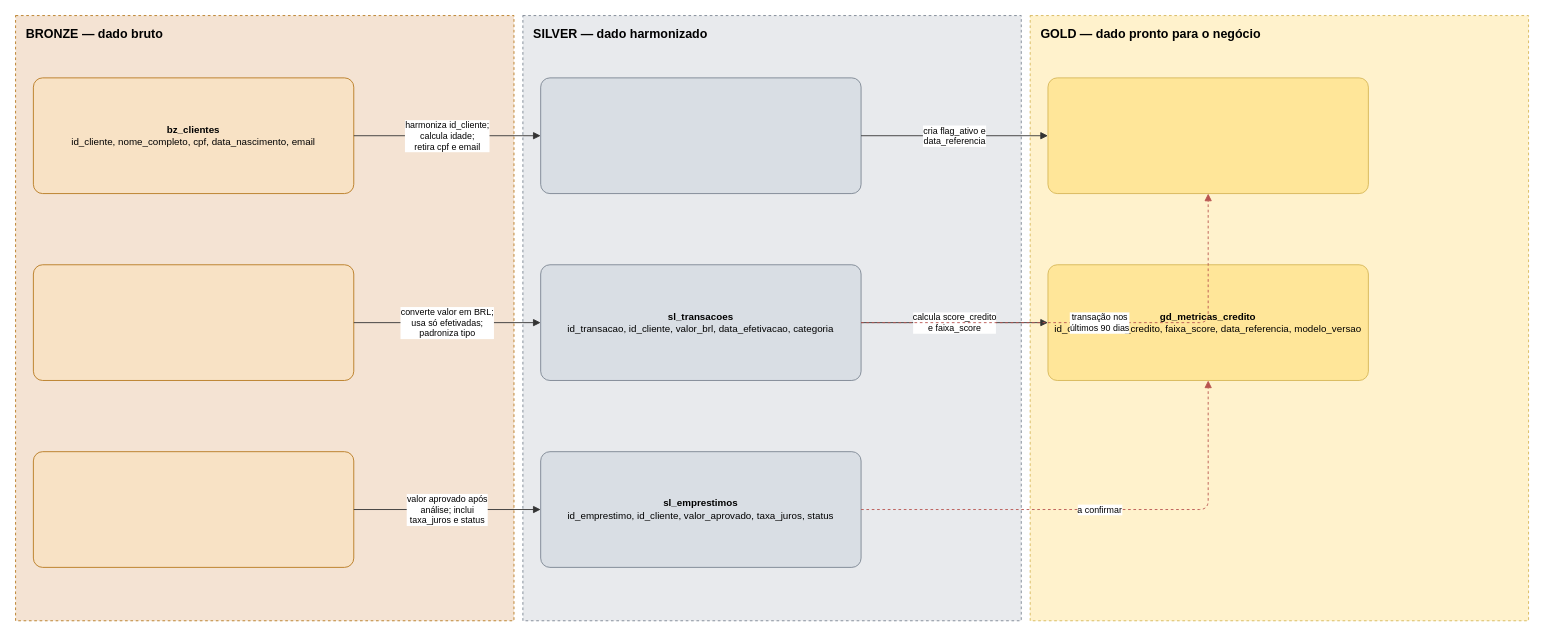
This 1544x636 diagram has some shape labels left out. The shapes that lost their labels are listed below. From the top down, each one's centre as x and y in pixels, then its label:
point (700, 135): sl_clientes id_cliente, nome_completo, idade, segmento, cidade
point (1207, 135): gd_clientes_ativos id_cliente, segmento, flag_ativo, data_referencia
point (193, 322): bz_transacoes id_transacao, id_cliente, valor, data, tipo
point (193, 509): bz_emprestimos id_emprestimo, id_cliente, valor_solicitado, prazo_meses
